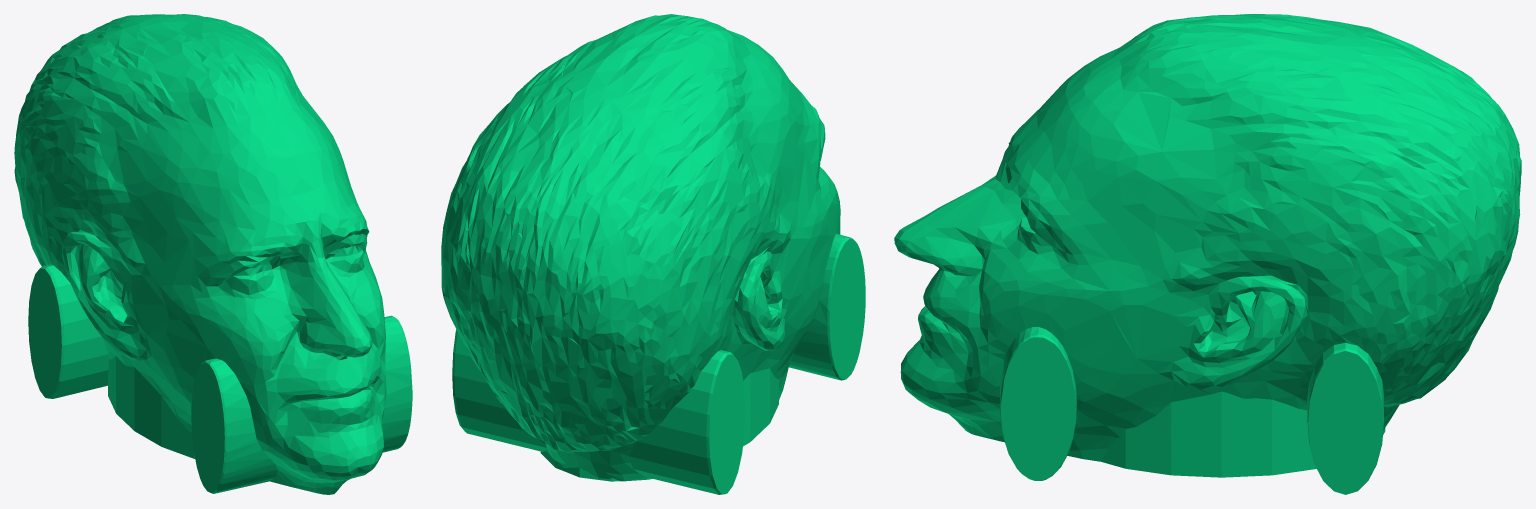
Rendered from joebidencar.glb.
The picture shows the model from 3 angles, left to right: view 1: azimuth 30°, elevation 25°; view 2: azimuth 150°, elevation 25°; view 3: azimuth 270°, elevation 25°; orthographic projection. The views are drawn at different scales.
Parts seen in each view (by area): view 1: Mesh_Mesh_head_geo.001_lambert2SG.001; view 2: Mesh_Mesh_head_geo.001_lambert2SG.001; view 3: Mesh_Mesh_head_geo.001_lambert2SG.001.
Part boxes in pixels (left/top/right/bottom): Mesh_Mesh_head_geo.001_lambert2SG.001: left=14, top=14, right=412, bottom=494; Mesh_Mesh_head_geo.001_lambert2SG.001: left=441, top=14, right=865, bottom=494; Mesh_Mesh_head_geo.001_lambert2SG.001: left=894, top=14, right=1521, bottom=494.
Size of the model in its own units: 63.2 by 90 by 127.
